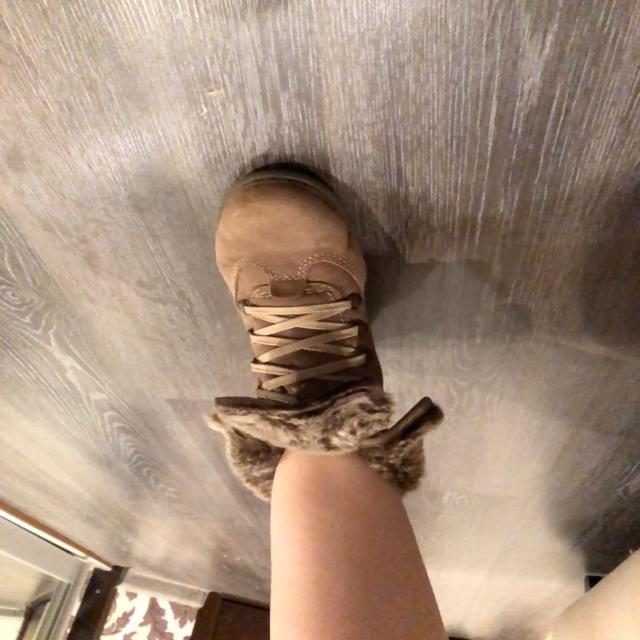shoe: (212, 159, 445, 640)
